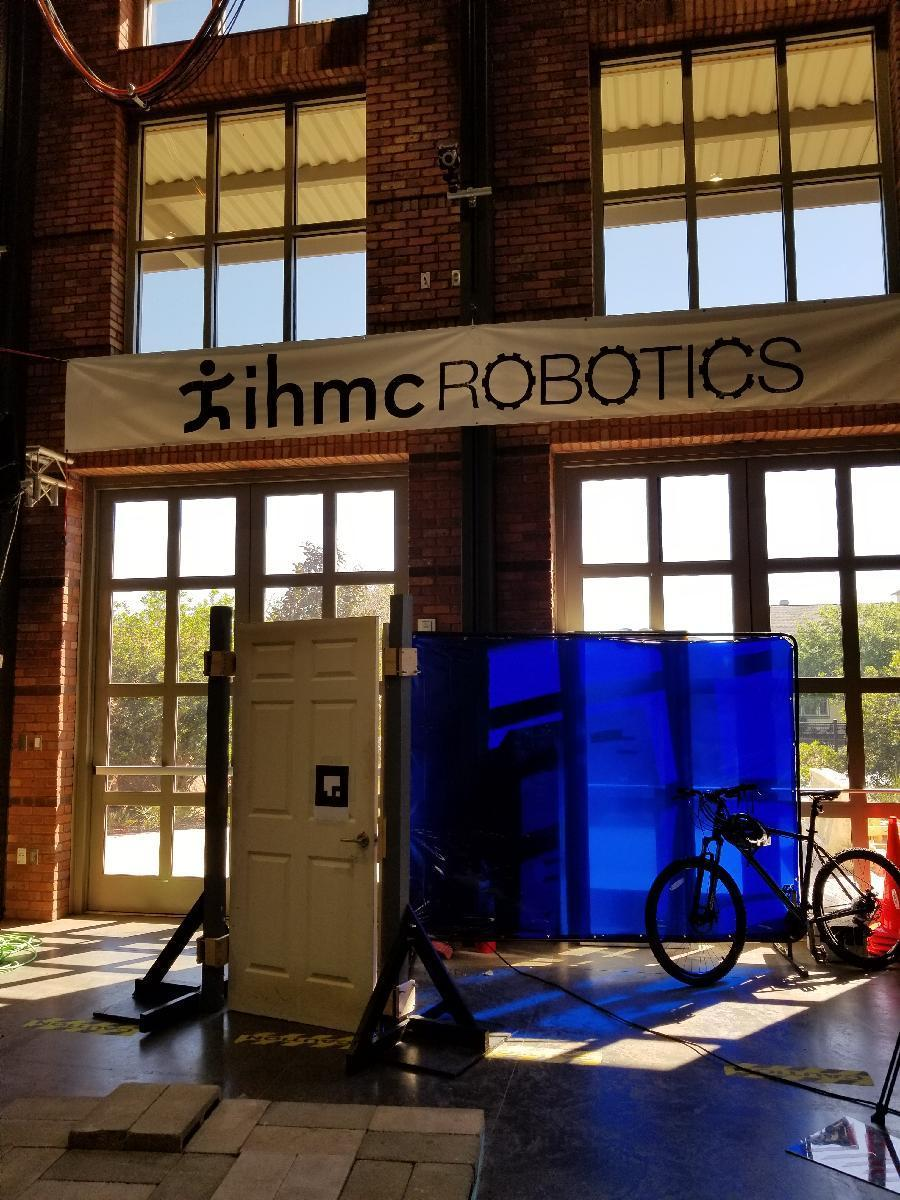door: (236, 620, 378, 1024)
handle: (336, 826, 378, 860)
